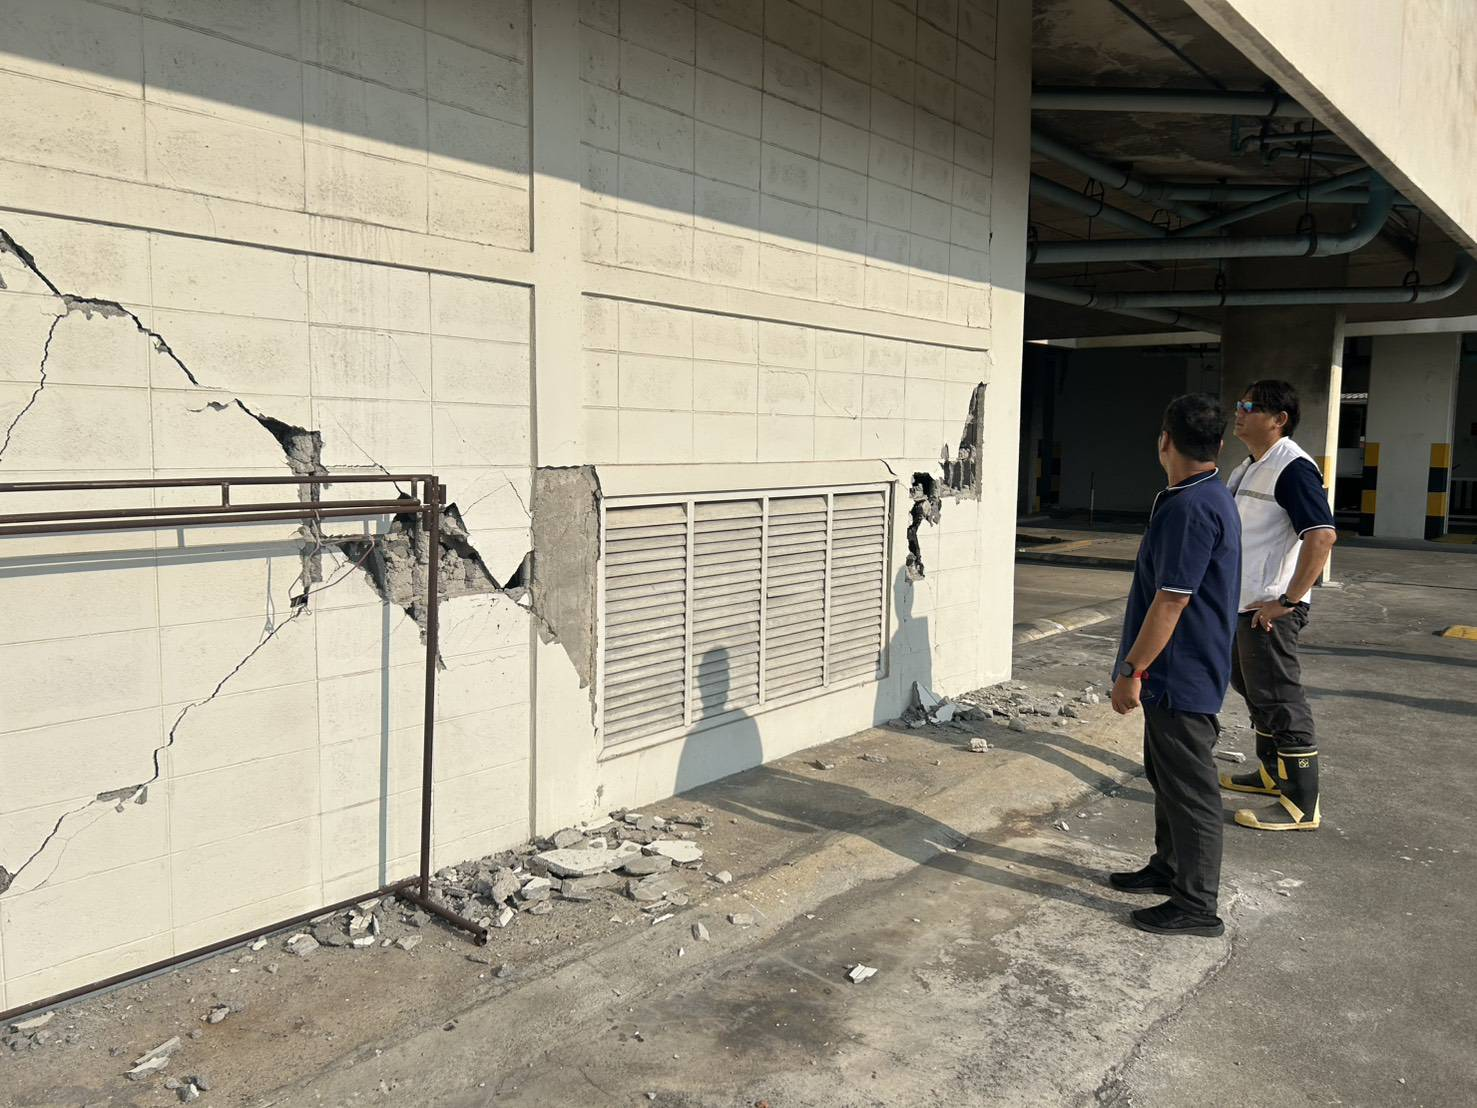Medium: (10, 234, 275, 469)
